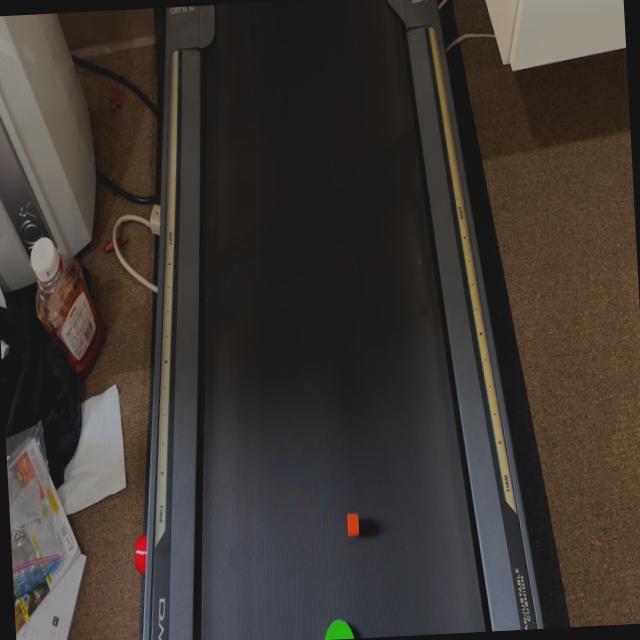Trash: (336, 499, 370, 542)
